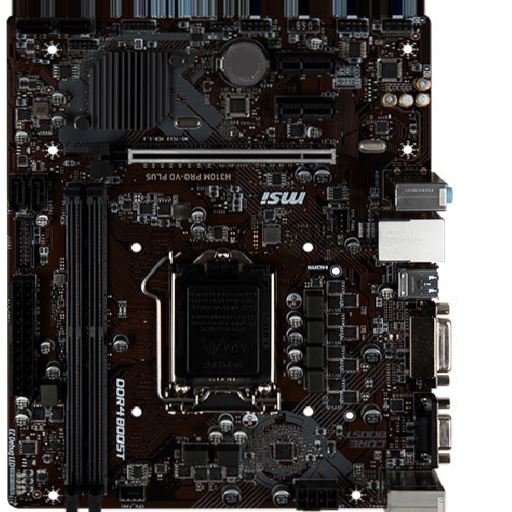CPU: (168, 246, 279, 416)
GPU: (88, 145, 340, 177)
MOTHERBOARD: (8, 15, 437, 508)
RAM: (62, 183, 111, 512)
